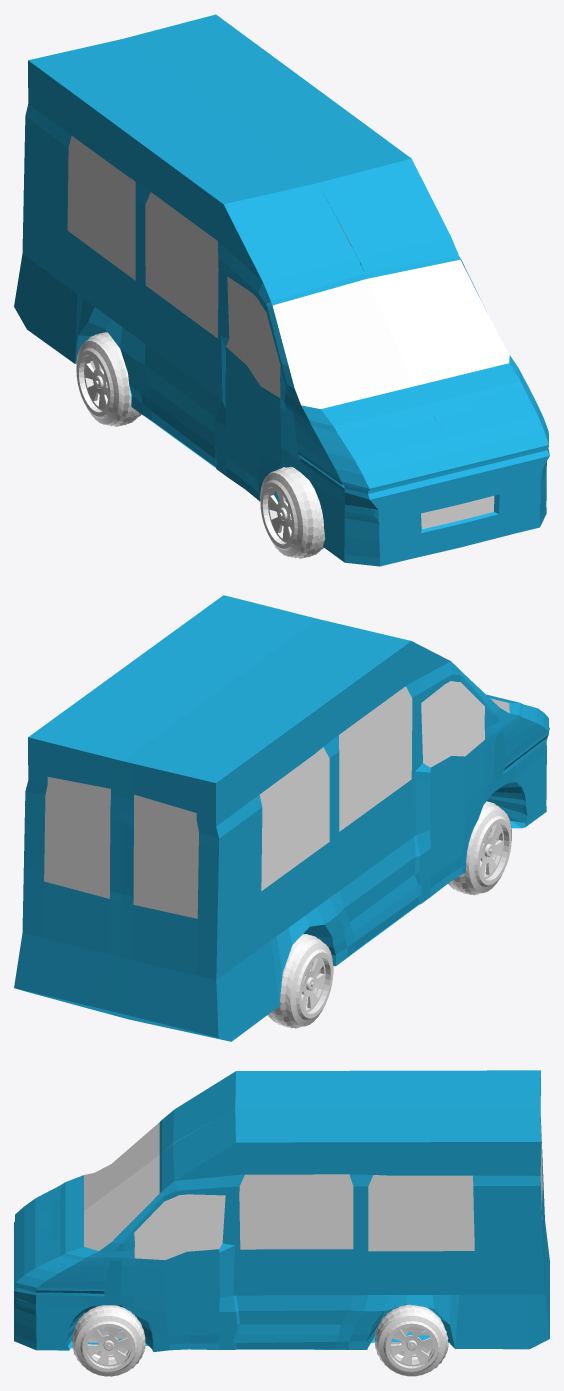
The model's file is vanModel.glb.
3 renders of one model, top to bottom at view 1: azimuth 30°, elevation 25°; view 2: azimuth 150°, elevation 25°; view 3: azimuth 270°, elevation 25°, orthographic. The views are drawn at different scales.
Parts seen in each view (by area): view 1: Plane, Cylinder.004, Cylinder.003; view 2: Plane, Cylinder.003, Cylinder.004; view 3: Plane, Cylinder, Cylinder.002.
Boxes of the visible parts, left/top/right/bottom form: Plane: left=14, top=14, right=549, bottom=566; Cylinder.004: left=260, top=467, right=325, bottom=558; Cylinder.003: left=76, top=332, right=141, bottom=426; Plane: left=14, top=595, right=549, bottom=1041; Cylinder.003: left=267, top=933, right=333, bottom=1028; Cylinder.004: left=448, top=801, right=511, bottom=895; Plane: left=14, top=1070, right=549, bottom=1351; Cylinder: left=72, top=1305, right=145, bottom=1376; Cylinder.002: left=374, top=1304, right=448, bottom=1376.
Bounding box in the file's own units: 2.32 × 3.09 × 6.38.
